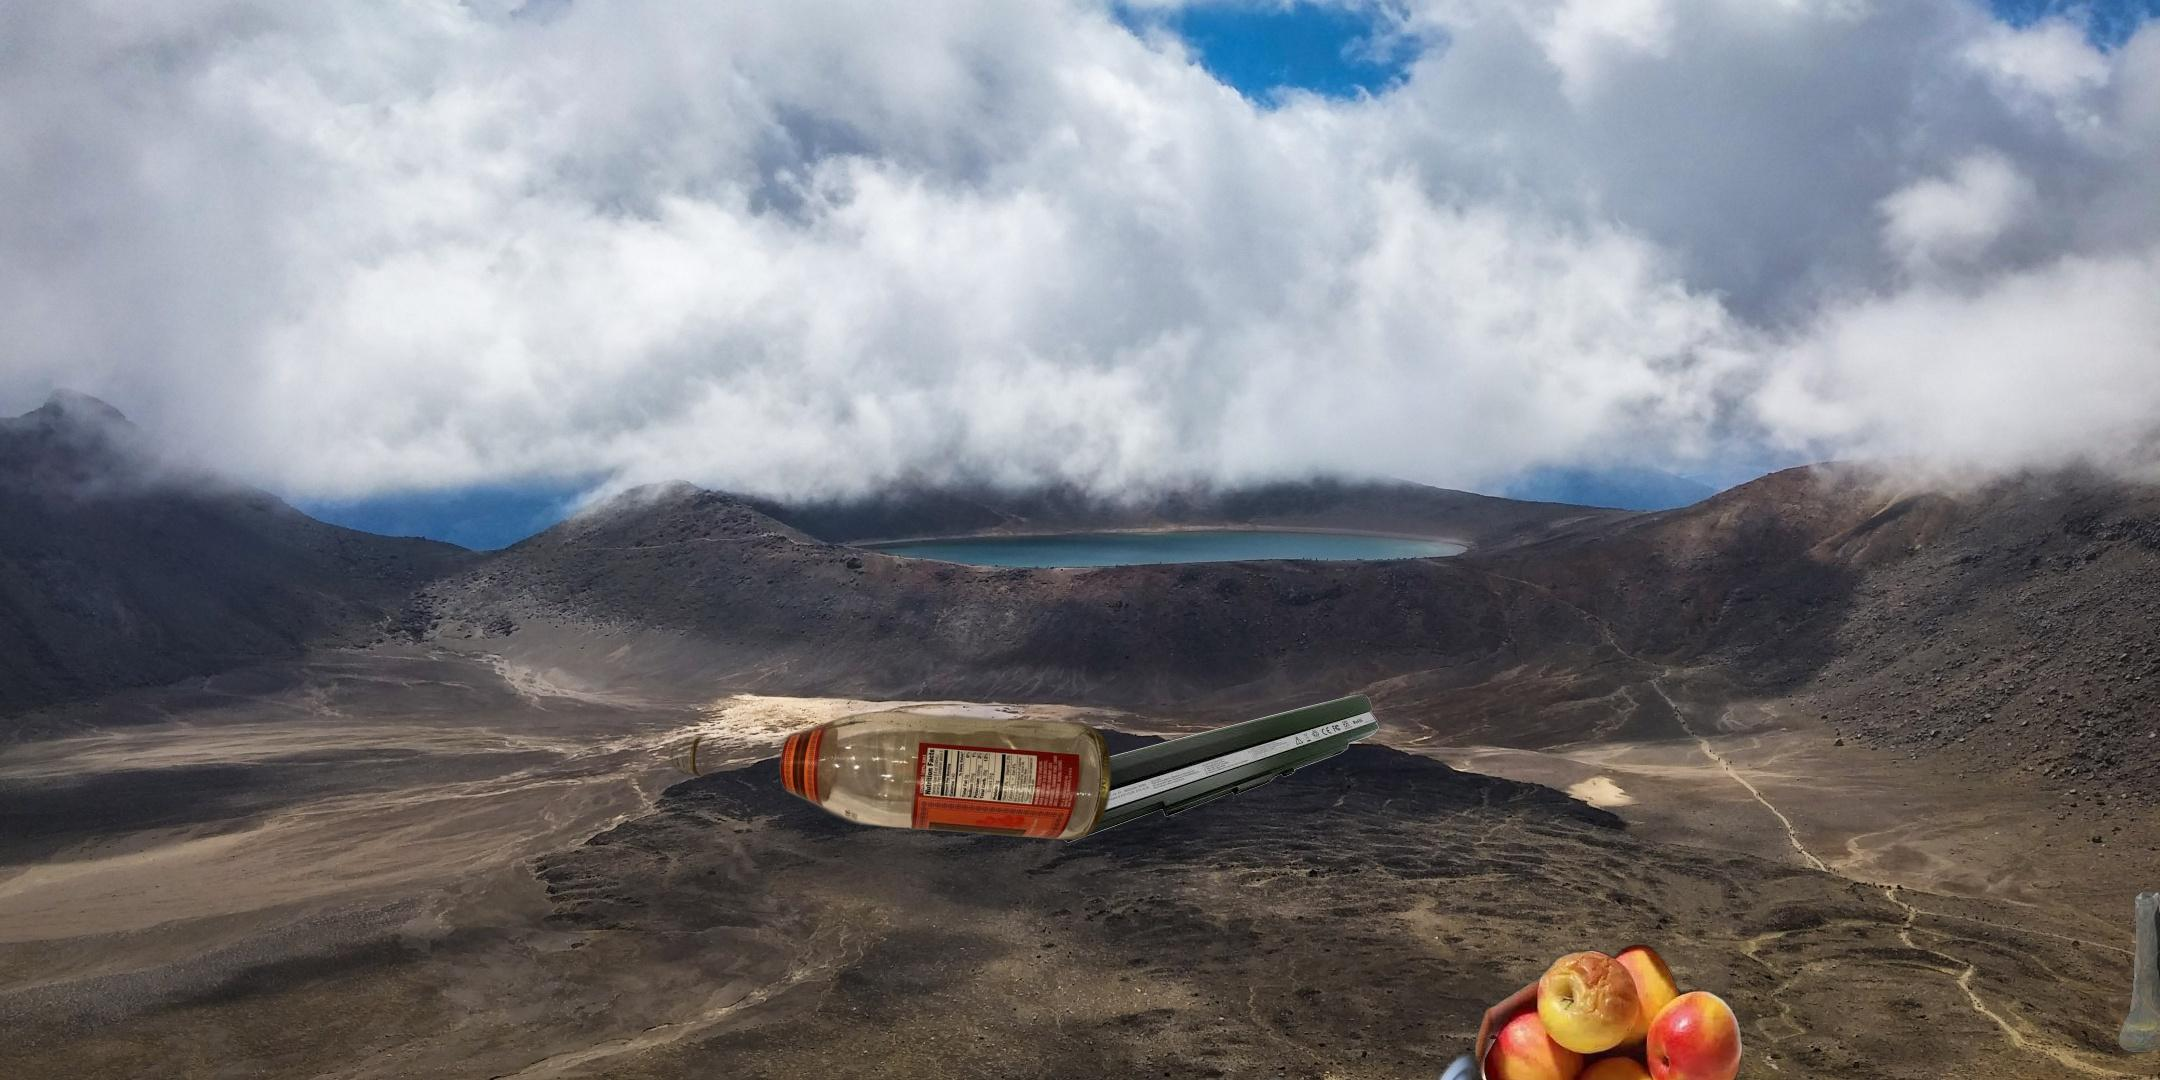battery: (1041, 694, 1379, 843)
biological: (1464, 927, 1749, 1080)
glass: (667, 703, 1116, 843)
penholder: (1066, 1039, 1931, 1080)
shoes: (2116, 889, 2160, 1058)
